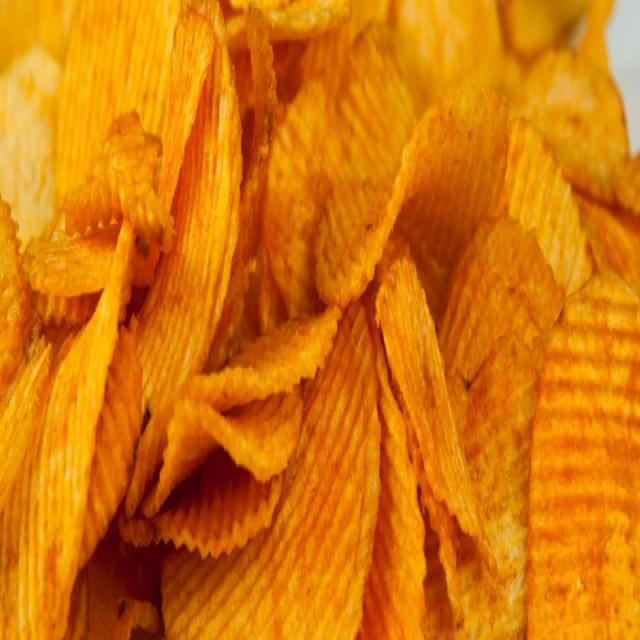Chips packaged: (1, 2, 639, 639)
